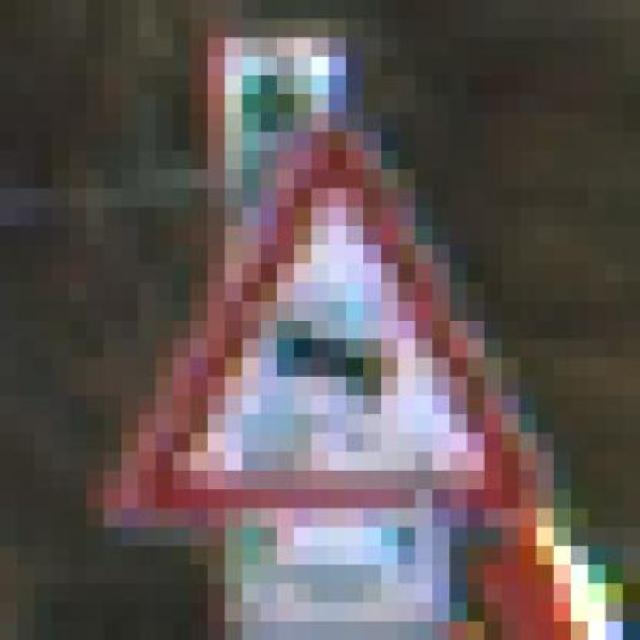Slippery Road Ahead: (86, 94, 571, 528)
